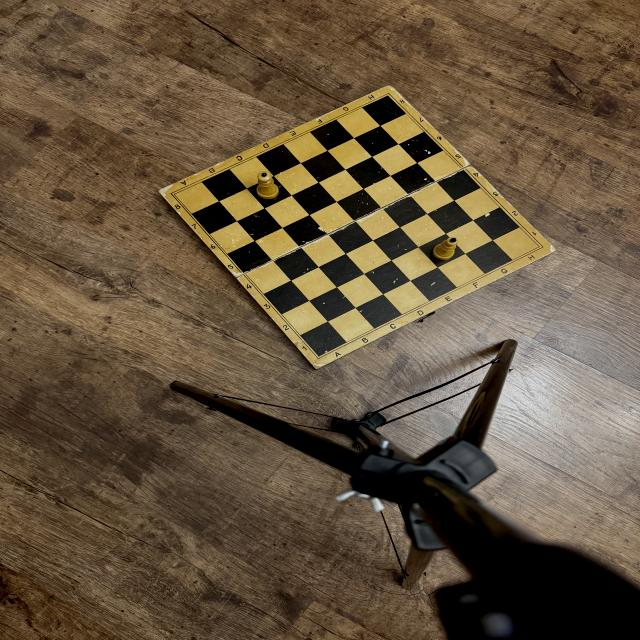white-king: (432, 236, 458, 261)
white-queen: (256, 170, 280, 200)
